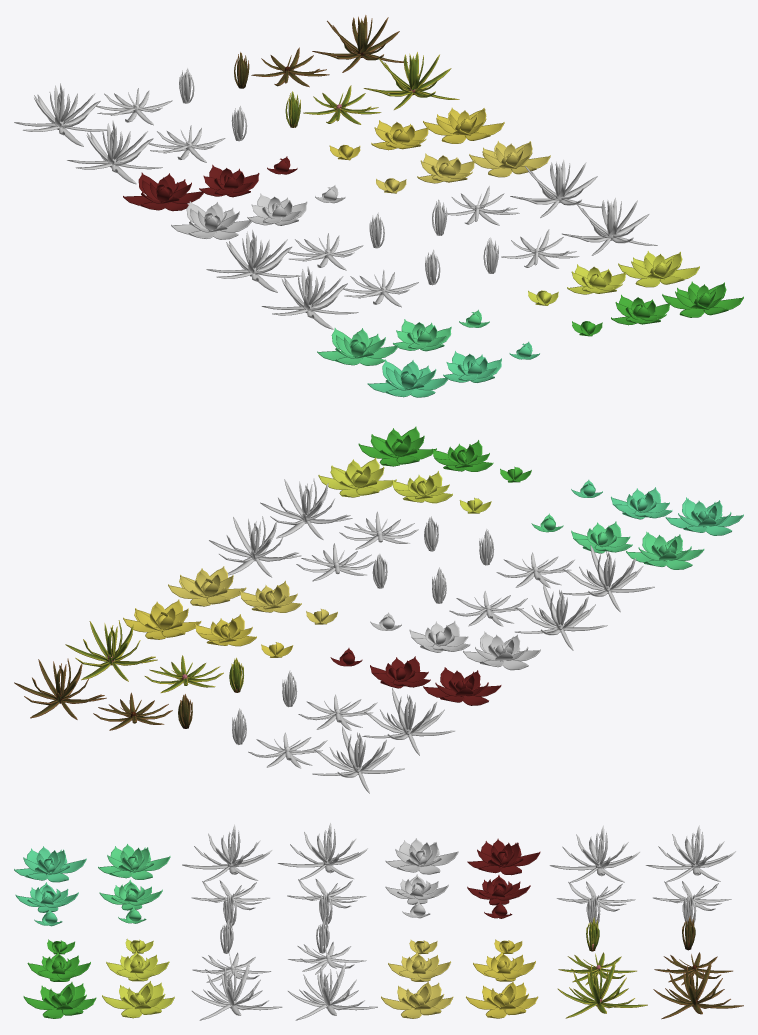
The model's file is AloePflanzen.fbx.
3 views of the same model, one above another, from view 1: azimuth 30°, elevation 25°; view 2: azimuth 150°, elevation 25°; view 3: azimuth 270°, elevation 25° (orthographic). The views are drawn at different scales.
Parts seen in each view (by area): view 1: WasserAloe_Muster_groß, WasserAloe_normal_groß, NeoAloe_Muster_groß, NeoAloe_normal_groß, LangeAloe_Normal_normal.001, LangeAloe_Normal_Muster.002, LangeAloe_Normal_Muster.001, LangeAloe_Normal_normal.002, Aloe_normal_groß, WustenAloe_Muster_groß, WustenAloe_normal_groß.001, Aloe_Muster_groß (+20 smaller); view 2: WustenAloe_Muster_groß, Aloe_normal_groß, Aloe_Muster_groß, WustenAloe_normal_groß.001, LangeAloe_Normal_Muster.002, LangeAloe_Normal_Muster.001, LangeAloe_Normal_normal.002, WasserAloe_Muster_groß, NeoAloe_normal_groß, LangeAloe_Normal_normal.001, WasserAloe_normal_groß, NeoAloe_Muster_groß (+20 smaller); view 3: Aloe_Muster_groß, WasserAloe_Muster_groß, NeoAloe_Muster_groß, WustenAloe_normal_groß.001, Aloe_normal_groß, WustenAloe_Muster_groß, NeoAloe_normal_groß, WasserAloe_normal_groß, WusteLangeAloe_Normal_Muster, LangeAloe_Normal_Muster, WusteLangeAloe_Normal_normal, LangeAloe_Normal_normal (+22 smaller).
Part boxes in pixels (left/top/right/bottom): WasserAloe_Muster_groß: left=367, top=359, right=449, bottom=397; WasserAloe_normal_groß: left=317, top=328, right=398, bottom=365; NeoAloe_Muster_groß: left=171, top=201, right=252, bottom=239; NeoAloe_normal_groß: left=123, top=172, right=204, bottom=211; LangeAloe_Normal_normal.001: left=261, top=266, right=358, bottom=329; LangeAloe_Normal_Muster.002: left=14, top=83, right=106, bottom=146; LangeAloe_Normal_Muster.001: left=206, top=229, right=301, bottom=292; LangeAloe_Normal_normal.002: left=67, top=120, right=162, bottom=184; Aloe_normal_groß: left=618, top=251, right=699, bottom=287; WustenAloe_Muster_groß: left=469, top=141, right=550, bottom=177; WustenAloe_normal_groß.001: left=423, top=107, right=504, bottom=143; Aloe_Muster_groß: left=662, top=281, right=743, bottom=317; WustenAloe_Muster_groß: left=168, top=566, right=246, bottom=606; Aloe_normal_groß: left=318, top=457, right=396, bottom=497; Aloe_Muster_groß: left=358, top=426, right=436, bottom=466; WustenAloe_normal_groß.001: left=123, top=599, right=201, bottom=639; LangeAloe_Normal_Muster.002: left=312, top=726, right=404, bottom=793; LangeAloe_Normal_Muster.001: left=515, top=583, right=607, bottom=650; LangeAloe_Normal_normal.002: left=362, top=688, right=454, bottom=755; WasserAloe_Muster_groß: left=665, top=497, right=743, bottom=535; NeoAloe_normal_groß: left=423, top=667, right=501, bottom=705; LangeAloe_Normal_normal.001: left=563, top=545, right=654, bottom=612; WasserAloe_normal_groß: left=626, top=531, right=704, bottom=569; NeoAloe_Muster_groß: left=463, top=631, right=540, bottom=670; Aloe_Muster_groß: left=23, top=982, right=96, bottom=1018; WasserAloe_Muster_groß: left=14, top=846, right=86, bottom=882; NeoAloe_Muster_groß: left=385, top=838, right=458, bottom=874; WustenAloe_normal_groß.001: left=466, top=981, right=538, bottom=1018; Aloe_normal_groß: left=102, top=981, right=174, bottom=1018; WustenAloe_Muster_groß: left=381, top=981, right=453, bottom=1018; NeoAloe_normal_groß: left=467, top=838, right=540, bottom=875; WasserAloe_normal_groß: left=98, top=844, right=170, bottom=879; WusteLangeAloe_Normal_Muster: left=653, top=962, right=743, bottom=1019; LangeAloe_Normal_Muster: left=288, top=963, right=377, bottom=1020; WusteLangeAloe_Normal_normal: left=557, top=961, right=647, bottom=1018; LangeAloe_Normal_normal: left=192, top=963, right=282, bottom=1020.
Bounding box in the file's own units: 3084 × 382 × 5362.
